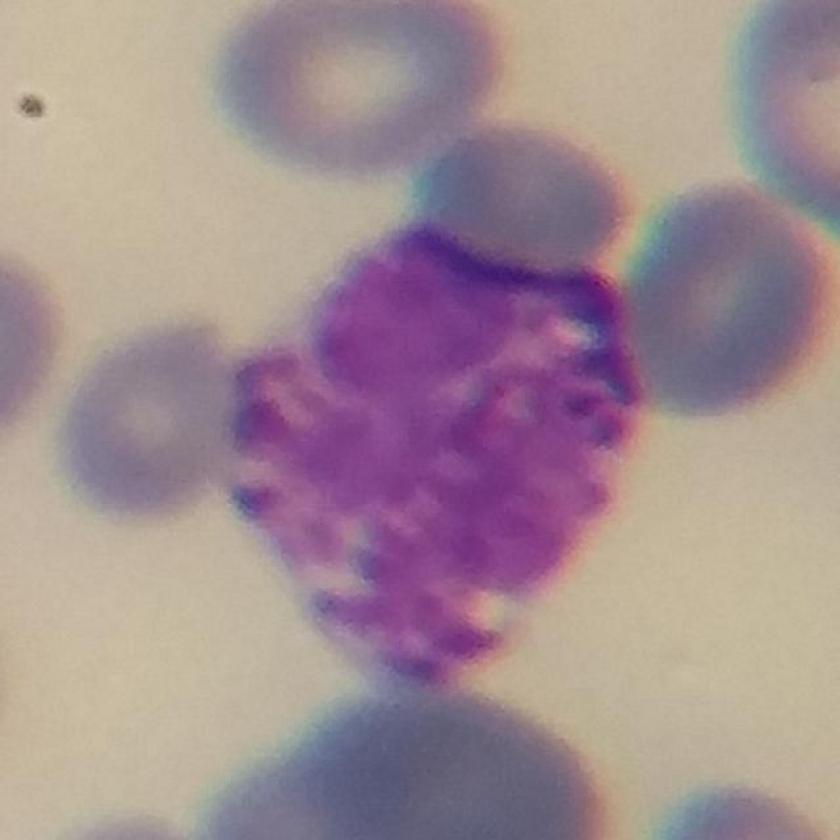basophil: (230, 219, 645, 718)
